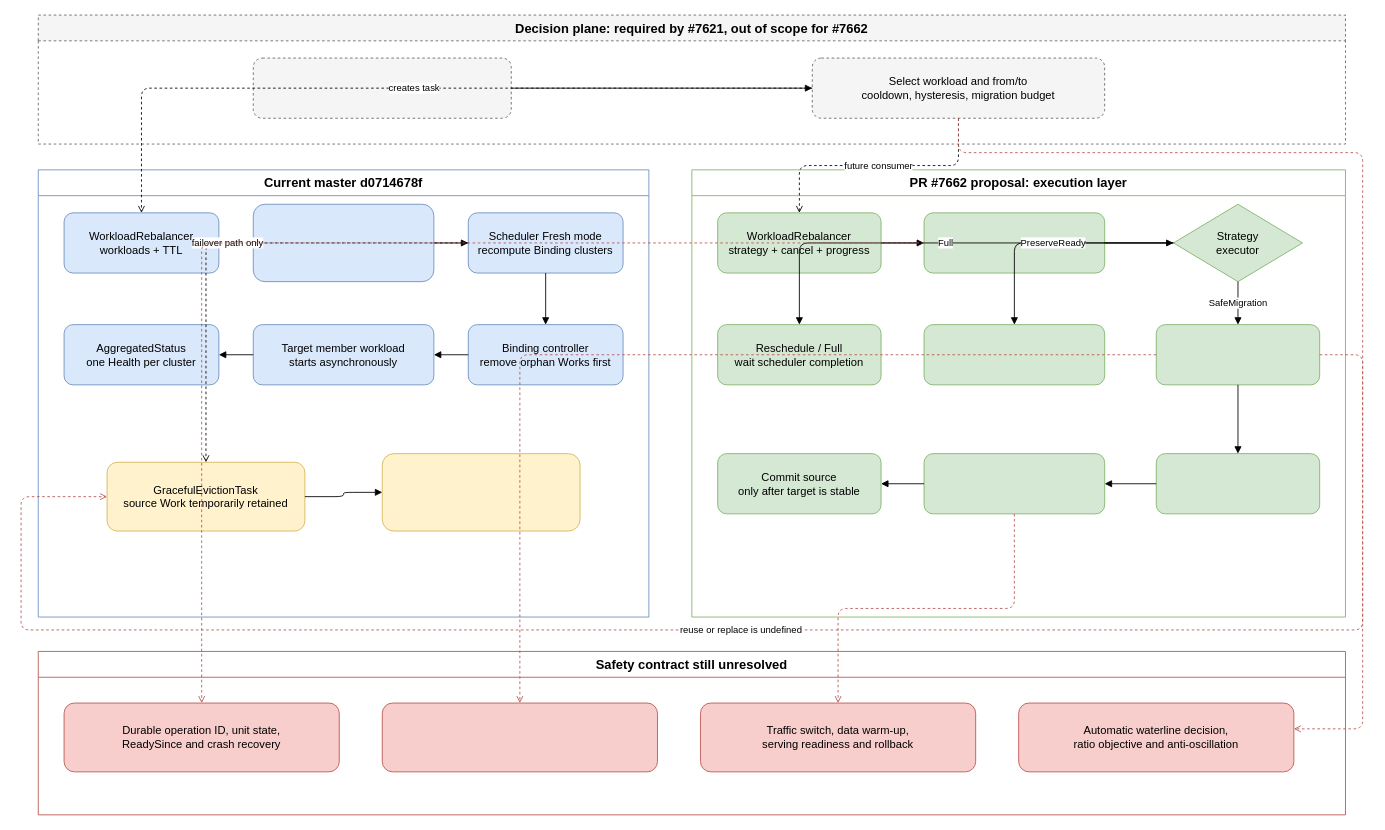
Image size: 1385x830. Some labels were removed from this diagram. Here are the shapes that lost their labels. From the top down, the box of each, then its label:
(252, 57, 511, 118): Pool telemetry watermarks, CPU/memory ratio
(252, 203, 434, 282): WR controller write rescheduleTriggeredAt mark Successful immediately
(923, 212, 1105, 273): Generic lifecycle controller status, retry, timeout, cancel
(923, 324, 1105, 385): PreserveReady keep ready count, place delta
(1155, 324, 1320, 385): SafeMigration from/to + maxInFlightUnits
(381, 453, 580, 531): Failover-only controller wait new targets Healthy or purge after timeout
(923, 453, 1105, 514): Open target fresh readiness + stableWindow
(1155, 453, 1320, 514): Workload-specific units replica batch, shard, partition
(381, 702, 657, 772): Single writer, concurrent WR/failover, spec mutation and stale status
